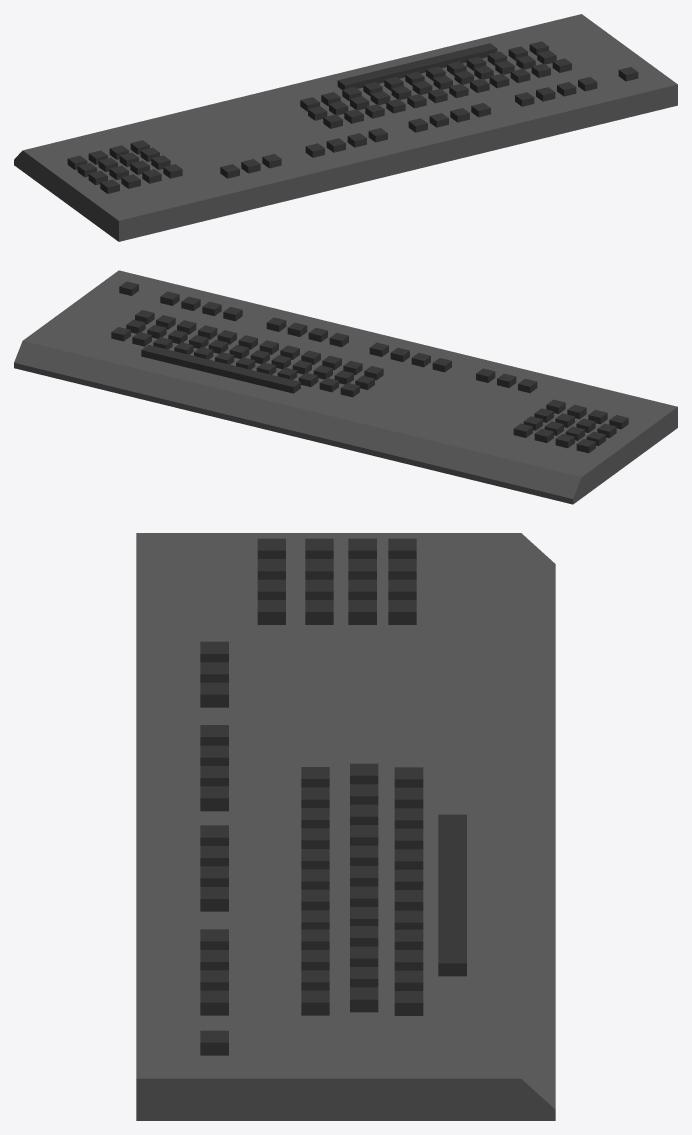
Rendered from Keyboard.fbx.
3 views of the same model, one above another, from view 1: azimuth 30°, elevation 25°; view 2: azimuth 150°, elevation 25°; view 3: azimuth 270°, elevation 25° (orthographic). The views are drawn at different scales.
Visible parts, largest first — view 1: keyboard.003; view 2: keyboard.003; view 3: keyboard.003.
Part boxes in pixels (x1,y1,x2,y2): keyboard.003: [14, 14, 677, 241]; keyboard.003: [14, 270, 677, 504]; keyboard.003: [136, 533, 555, 1120].
Bounding box in the file's own units: 0.6513 × 0.0307 × 0.2116.
